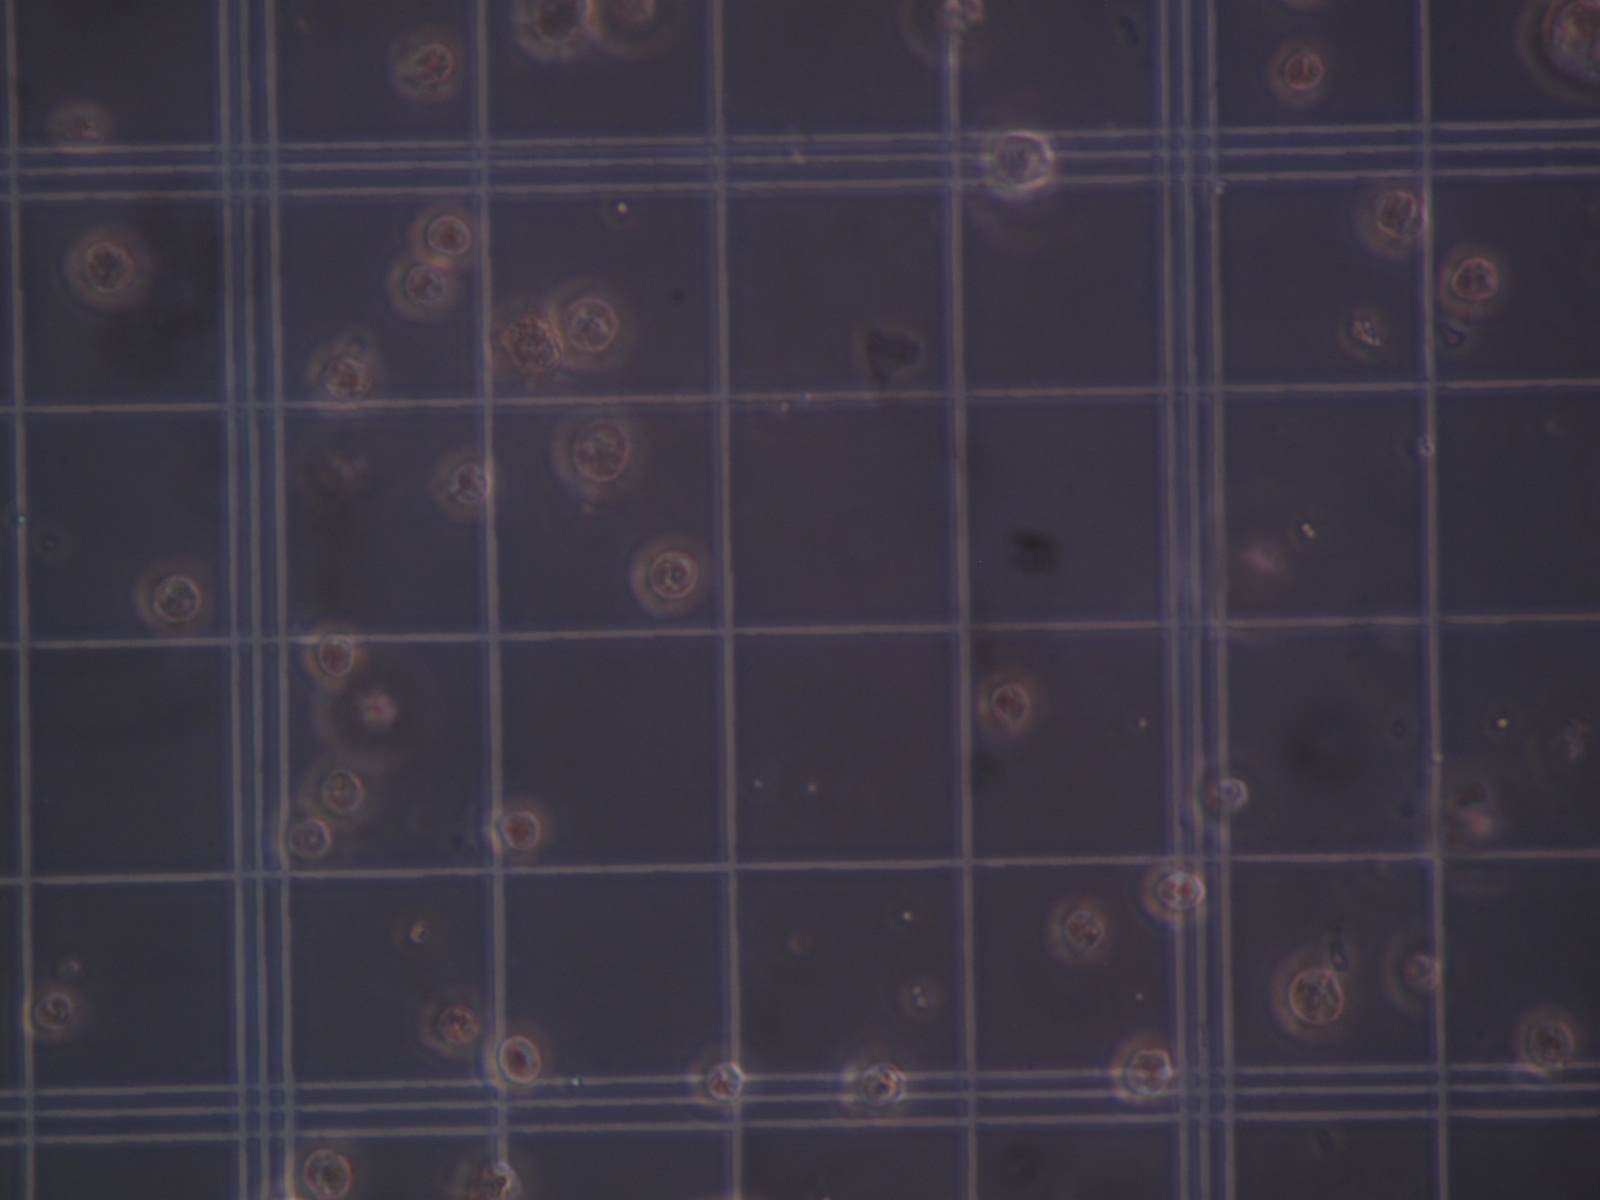hemo: (312, 661, 396, 770), (551, 405, 640, 504), (546, 274, 635, 372), (1516, 1, 1600, 102), (1275, 943, 1353, 1042), (299, 338, 389, 418), (627, 531, 711, 618), (66, 223, 152, 303), (134, 555, 220, 633), (894, 1, 984, 71), (1383, 923, 1446, 1018), (1351, 182, 1429, 258), (981, 118, 1054, 200), (489, 303, 562, 381), (1184, 753, 1250, 839), (408, 197, 485, 270), (281, 1132, 367, 1196), (304, 756, 378, 828), (483, 1018, 554, 1093), (514, 1, 601, 62), (267, 799, 336, 872), (389, 252, 460, 321), (1107, 1031, 1175, 1103), (842, 1047, 908, 1119), (433, 447, 499, 521), (299, 616, 360, 693), (1141, 860, 1211, 928), (1047, 892, 1110, 966), (1267, 37, 1329, 110), (485, 792, 552, 858), (587, 1, 669, 55), (1437, 245, 1499, 316), (1517, 1005, 1579, 1075), (976, 664, 1038, 732), (396, 40, 464, 100), (420, 995, 480, 1058), (20, 983, 84, 1042), (687, 1046, 748, 1107), (45, 101, 112, 155), (449, 1155, 525, 1200)
